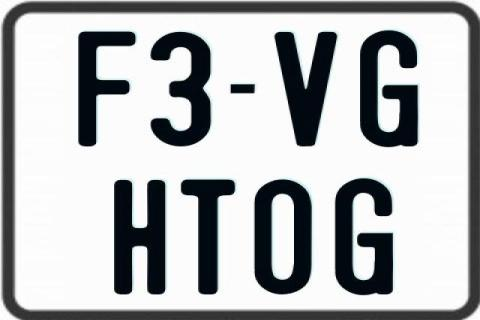0: (149, 31, 215, 148), (251, 178, 309, 296)
F: (77, 31, 137, 147)
G: (357, 29, 419, 145), (334, 178, 393, 298)
H: (112, 178, 164, 294)
T: (180, 178, 235, 294)
V: (273, 32, 339, 148)
